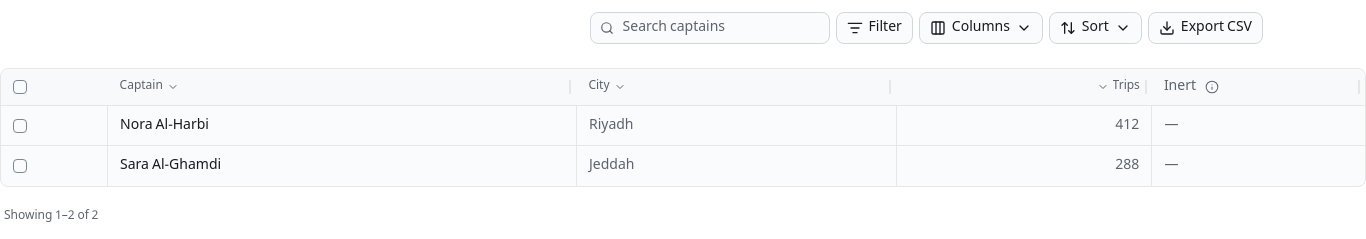
Scenario: a column explains itself on request › opens it on an INERT header too, which has no menu to hang it on
The image size is (1366, 239).
Click the button named "What this means".
click(1212, 87)  # box [1200,75,1224,99]
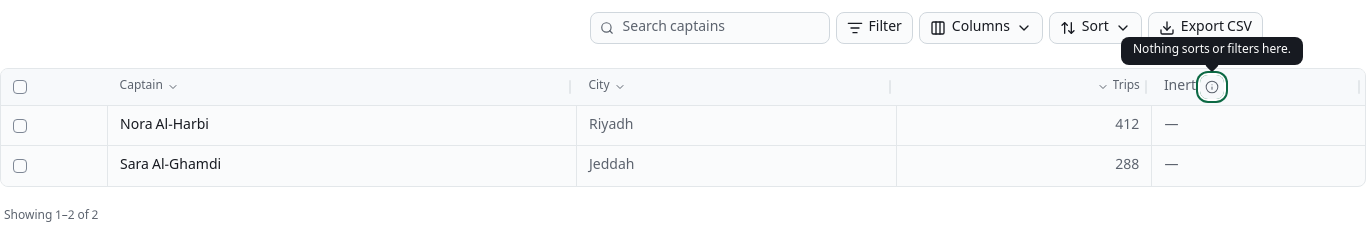
Check: the tooltip reads "Nothing sorts or filters here.", box [1133,40,1291,61]
